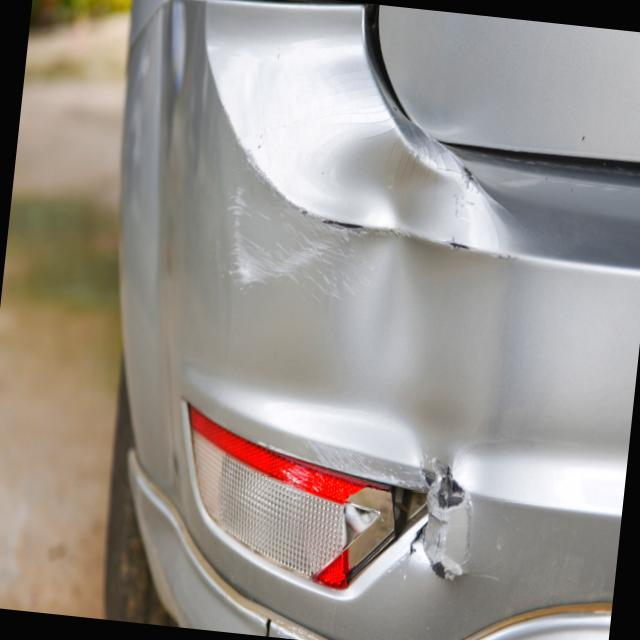Cabossage: (209, 58, 518, 456), (121, 473, 211, 620)
Dechirure: (414, 440, 475, 592)
Phare abime: (323, 475, 460, 622)
Rayure: (200, 191, 364, 327)
